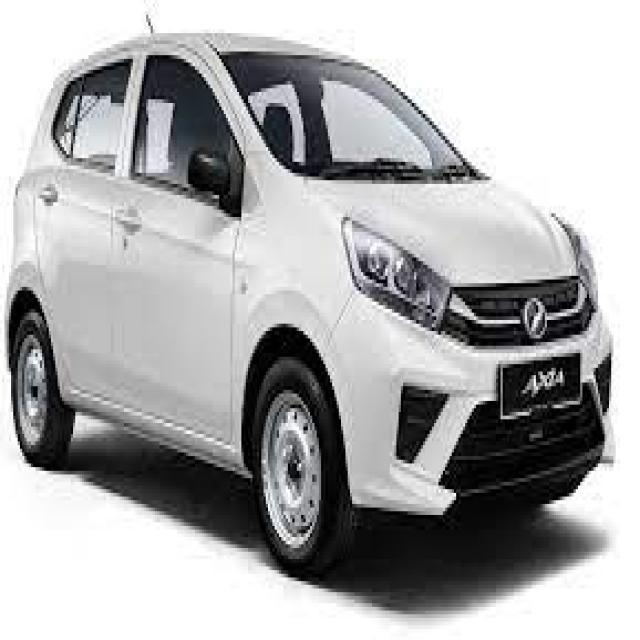PeroduaAxia: (4, 11, 616, 578)
